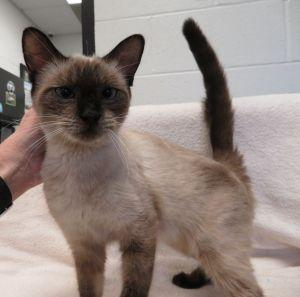siamese: (15, 20, 150, 158)
